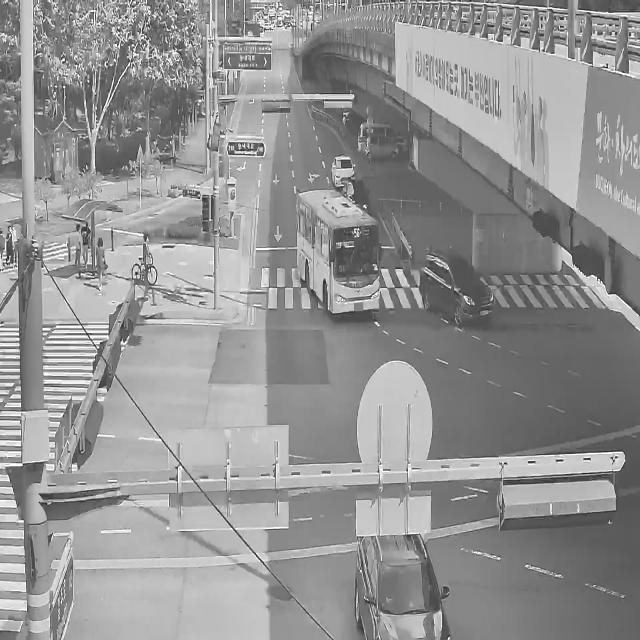Bus: (289, 179, 382, 325)
Car: (354, 532, 450, 640), (418, 252, 494, 326), (366, 130, 399, 162), (330, 155, 356, 189)
